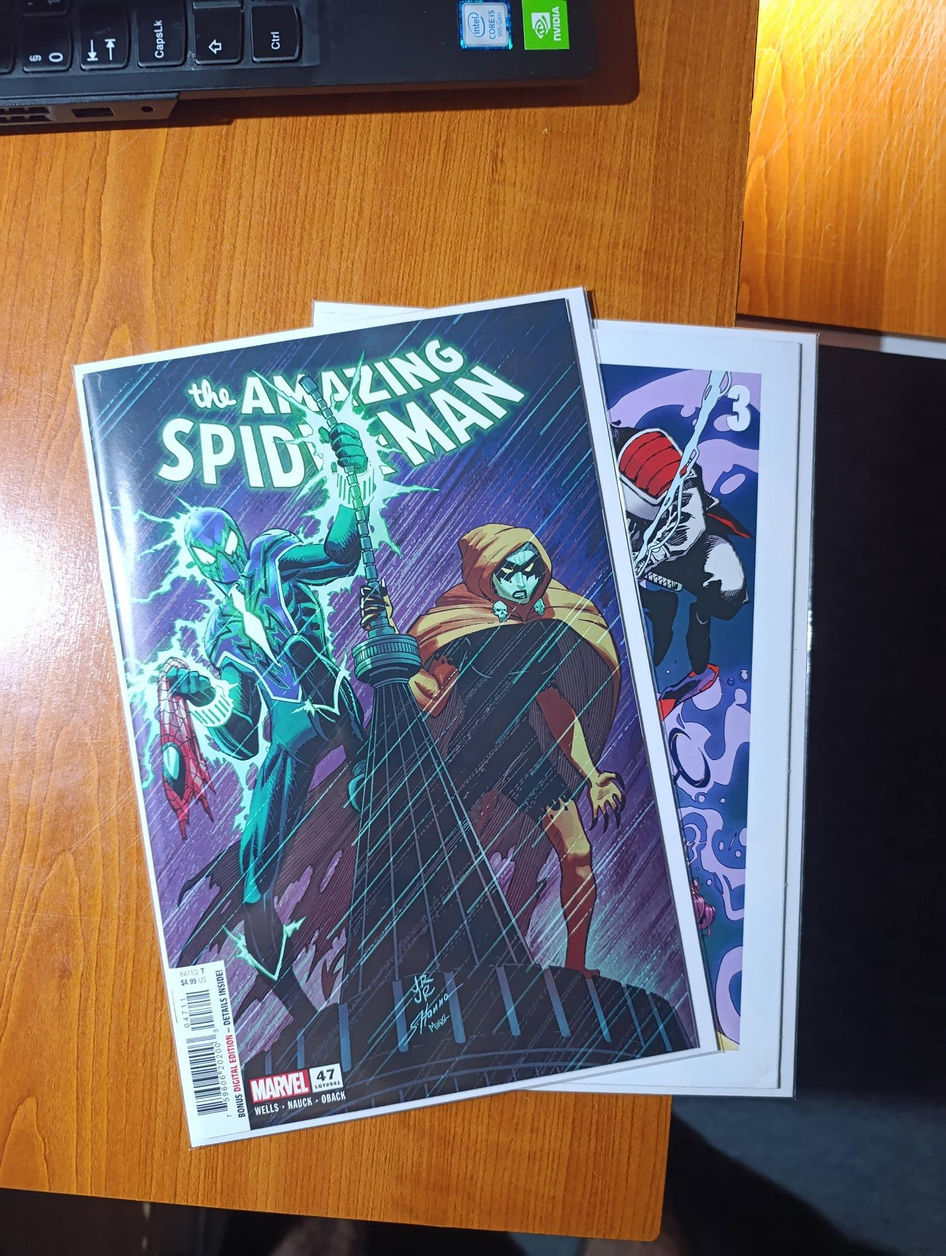comic: (65, 282, 717, 1144)
